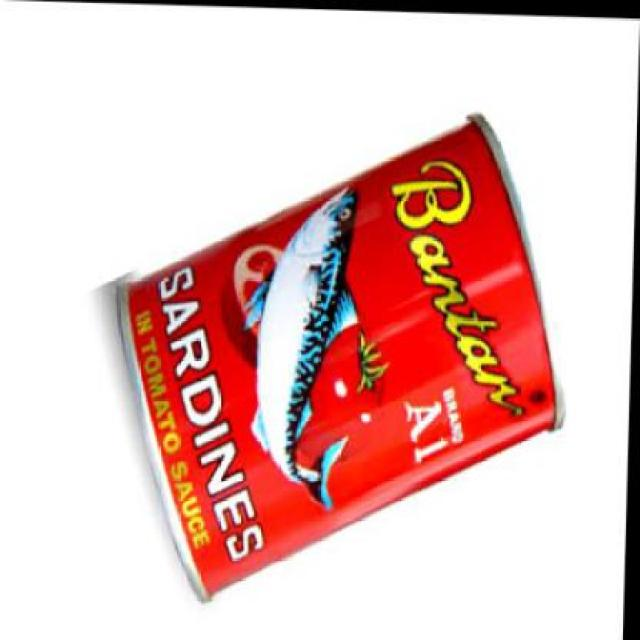Metal: (118, 107, 569, 606)
